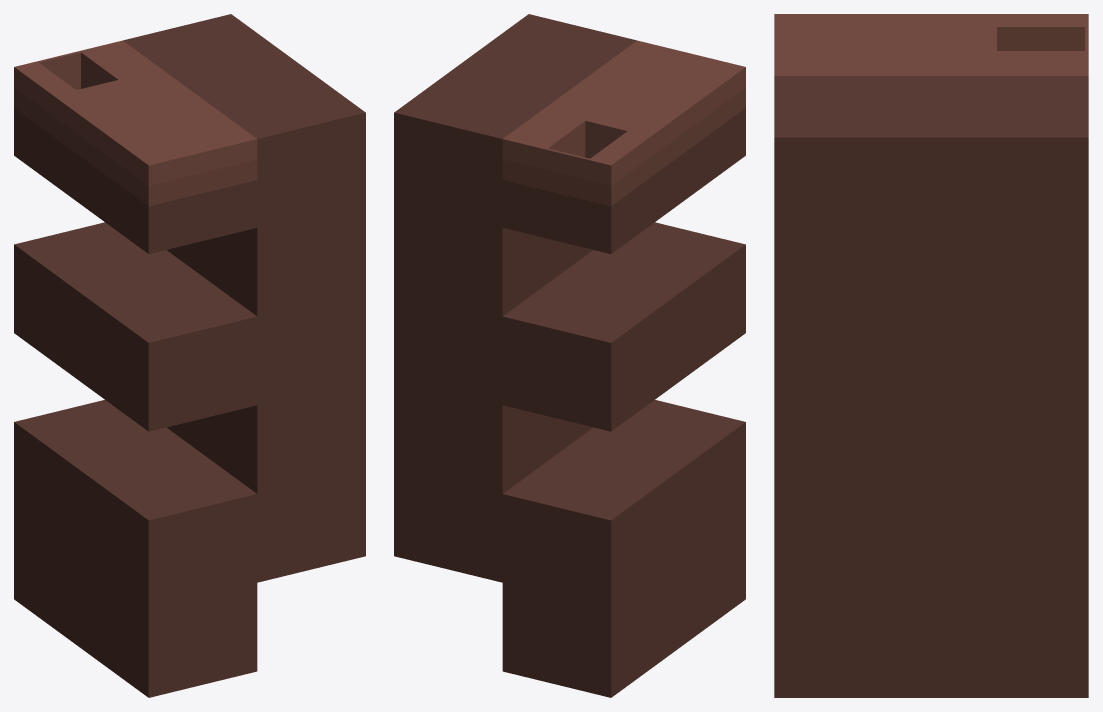
File: Fase_2_Parte_9S.fbx
3 renders of one model, left to right at view 1: azimuth 30°, elevation 25°; view 2: azimuth 150°, elevation 25°; view 3: azimuth 270°, elevation 25°, orthographic. The views are drawn at different scales.
Parts seen in each view (by area): view 1: Plane.010, Plane.023, Plane.050, Plane.056, Plane.107, Plane.055, Plane.053, Plane.001, Plane.009, Plane.024, Plane.052, Plane.054 (+2 smaller); view 2: Plane.009, Plane.024, Plane.001, Plane.061, Plane.108, Plane.060, Plane.058, Plane.050, Plane.010, Plane.023, Plane.057, Plane.059 (+2 smaller); view 3: Plane.061, Plane.056, Plane.057, Plane.058, Plane.053, Plane.052, Plane.054, Plane.055, Plane.059, Plane.060, Plane.050, Plane.001 (+2 smaller).
Boxes of the visible parts, x1,y1,x2,y2 form: Plane.010: (81, 267, 257, 431); Plane.023: (81, 445, 257, 608); Plane.050: (81, 90, 257, 253); Plane.056: (190, 63, 365, 227); Plane.107: (81, 560, 257, 697); Plane.055: (190, 201, 365, 316); Plane.053: (190, 379, 365, 493); Plane.001: (14, 40, 189, 204); Plane.009: (14, 222, 189, 381); Plane.024: (14, 400, 189, 559); Plane.052: (257, 467, 365, 582); Plane.054: (257, 290, 365, 404); Plane.009: (502, 267, 678, 431); Plane.024: (502, 445, 678, 608); Plane.001: (502, 90, 678, 253); Plane.061: (394, 63, 569, 227); Plane.108: (502, 560, 678, 697); Plane.060: (394, 201, 569, 316); Plane.058: (394, 379, 569, 493); Plane.050: (570, 40, 745, 204); Plane.010: (570, 222, 745, 381); Plane.023: (570, 400, 745, 559); Plane.057: (394, 467, 502, 582); Plane.059: (394, 290, 502, 404); Plane.061: (931, 76, 1088, 241); Plane.056: (774, 76, 931, 241); Plane.057: (931, 552, 1088, 656); Plane.058: (931, 448, 1088, 552); Plane.053: (774, 448, 931, 552); Plane.052: (774, 552, 931, 656); Plane.054: (774, 345, 931, 448); Plane.055: (774, 241, 931, 344); Plane.059: (931, 345, 1088, 448); Plane.060: (931, 241, 1088, 344); Plane.050: (774, 14, 931, 75); Plane.001: (931, 14, 1088, 75).
Bounding box in the file's own units: 3440 × 8064 × 3696.
